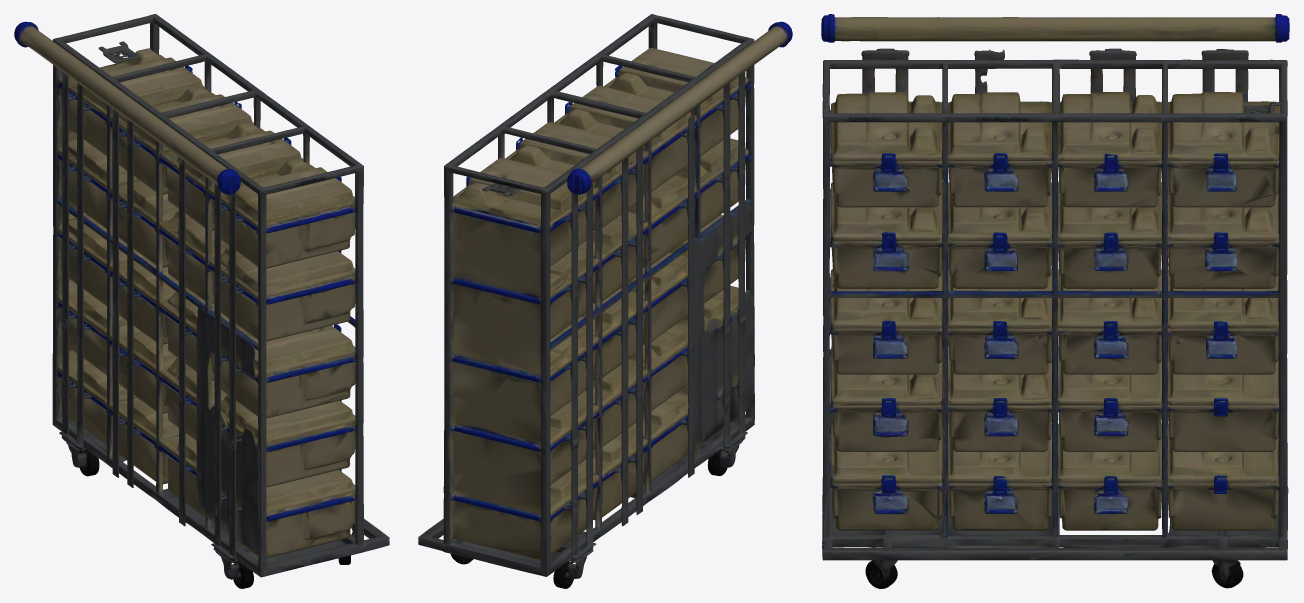
File: Storage Cart.glb
The picture shows the model from 3 angles, left to right: view 1: azimuth 30°, elevation 25°; view 2: azimuth 150°, elevation 25°; view 3: azimuth 270°, elevation 25°; orthographic projection. The views are drawn at different scales.
Parts seen in each view (by area): view 1: aiprintgen_node_89826e1c-4fca-4092-90d7-2601f1034066; view 2: aiprintgen_node_89826e1c-4fca-4092-90d7-2601f1034066; view 3: aiprintgen_node_89826e1c-4fca-4092-90d7-2601f1034066.
Part boxes in pixels (<box>): aiprintgen_node_89826e1c-4fca-4092-90d7-2601f1034066: <box>14,14,389,588</box>; aiprintgen_node_89826e1c-4fca-4092-90d7-2601f1034066: <box>418,14,792,588</box>; aiprintgen_node_89826e1c-4fca-4092-90d7-2601f1034066: <box>821,14,1289,588</box>.
Bounding box in the file's own units: 0.3982 × 0.9999 × 0.8558.
Materials: 1 (1 with a texture image).
